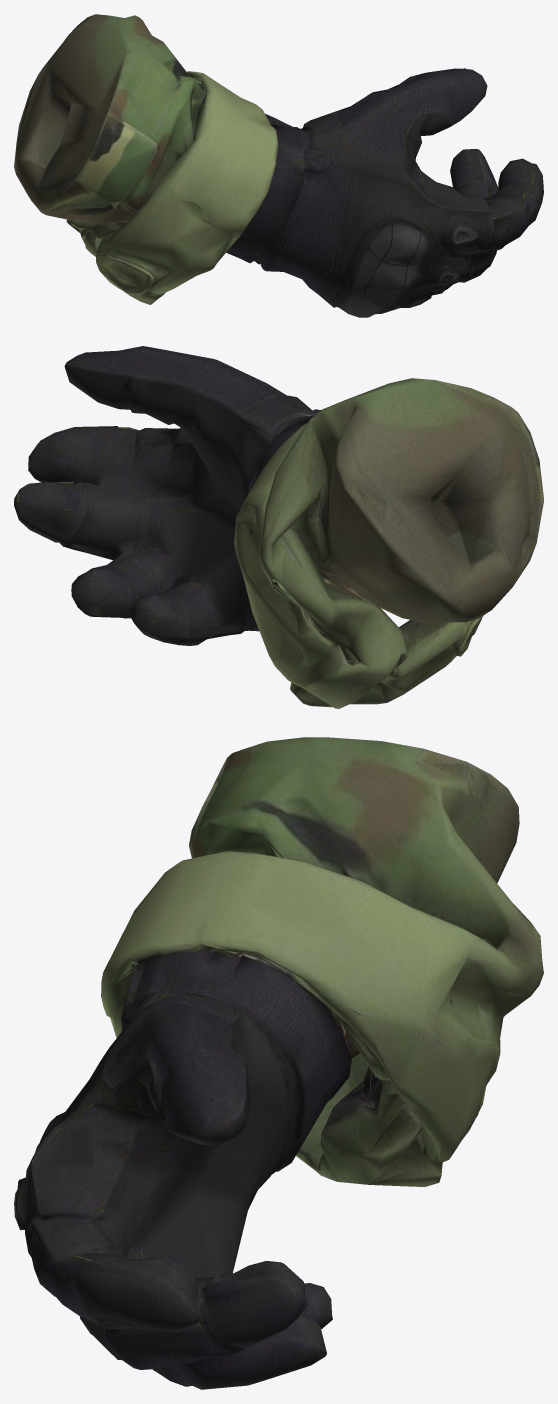
The model's file is hand_left.glb.
3 renders of one model, top to bottom at view 1: azimuth 30°, elevation 25°; view 2: azimuth 150°, elevation 25°; view 3: azimuth 270°, elevation 25°, orthographic. The views are drawn at different scales.
Visible parts, largest first — view 1: Mesh_0; view 2: Mesh_0; view 3: Mesh_0.
Boxes of the visible parts, x1,y1,x2,y2 form: Mesh_0: [14, 14, 543, 317]; Mesh_0: [14, 346, 543, 708]; Mesh_0: [14, 737, 543, 1389].
Size of the model in its own units: 1.9 by 1.19 by 1.24.
Materials: 1 (1 with a texture image).
